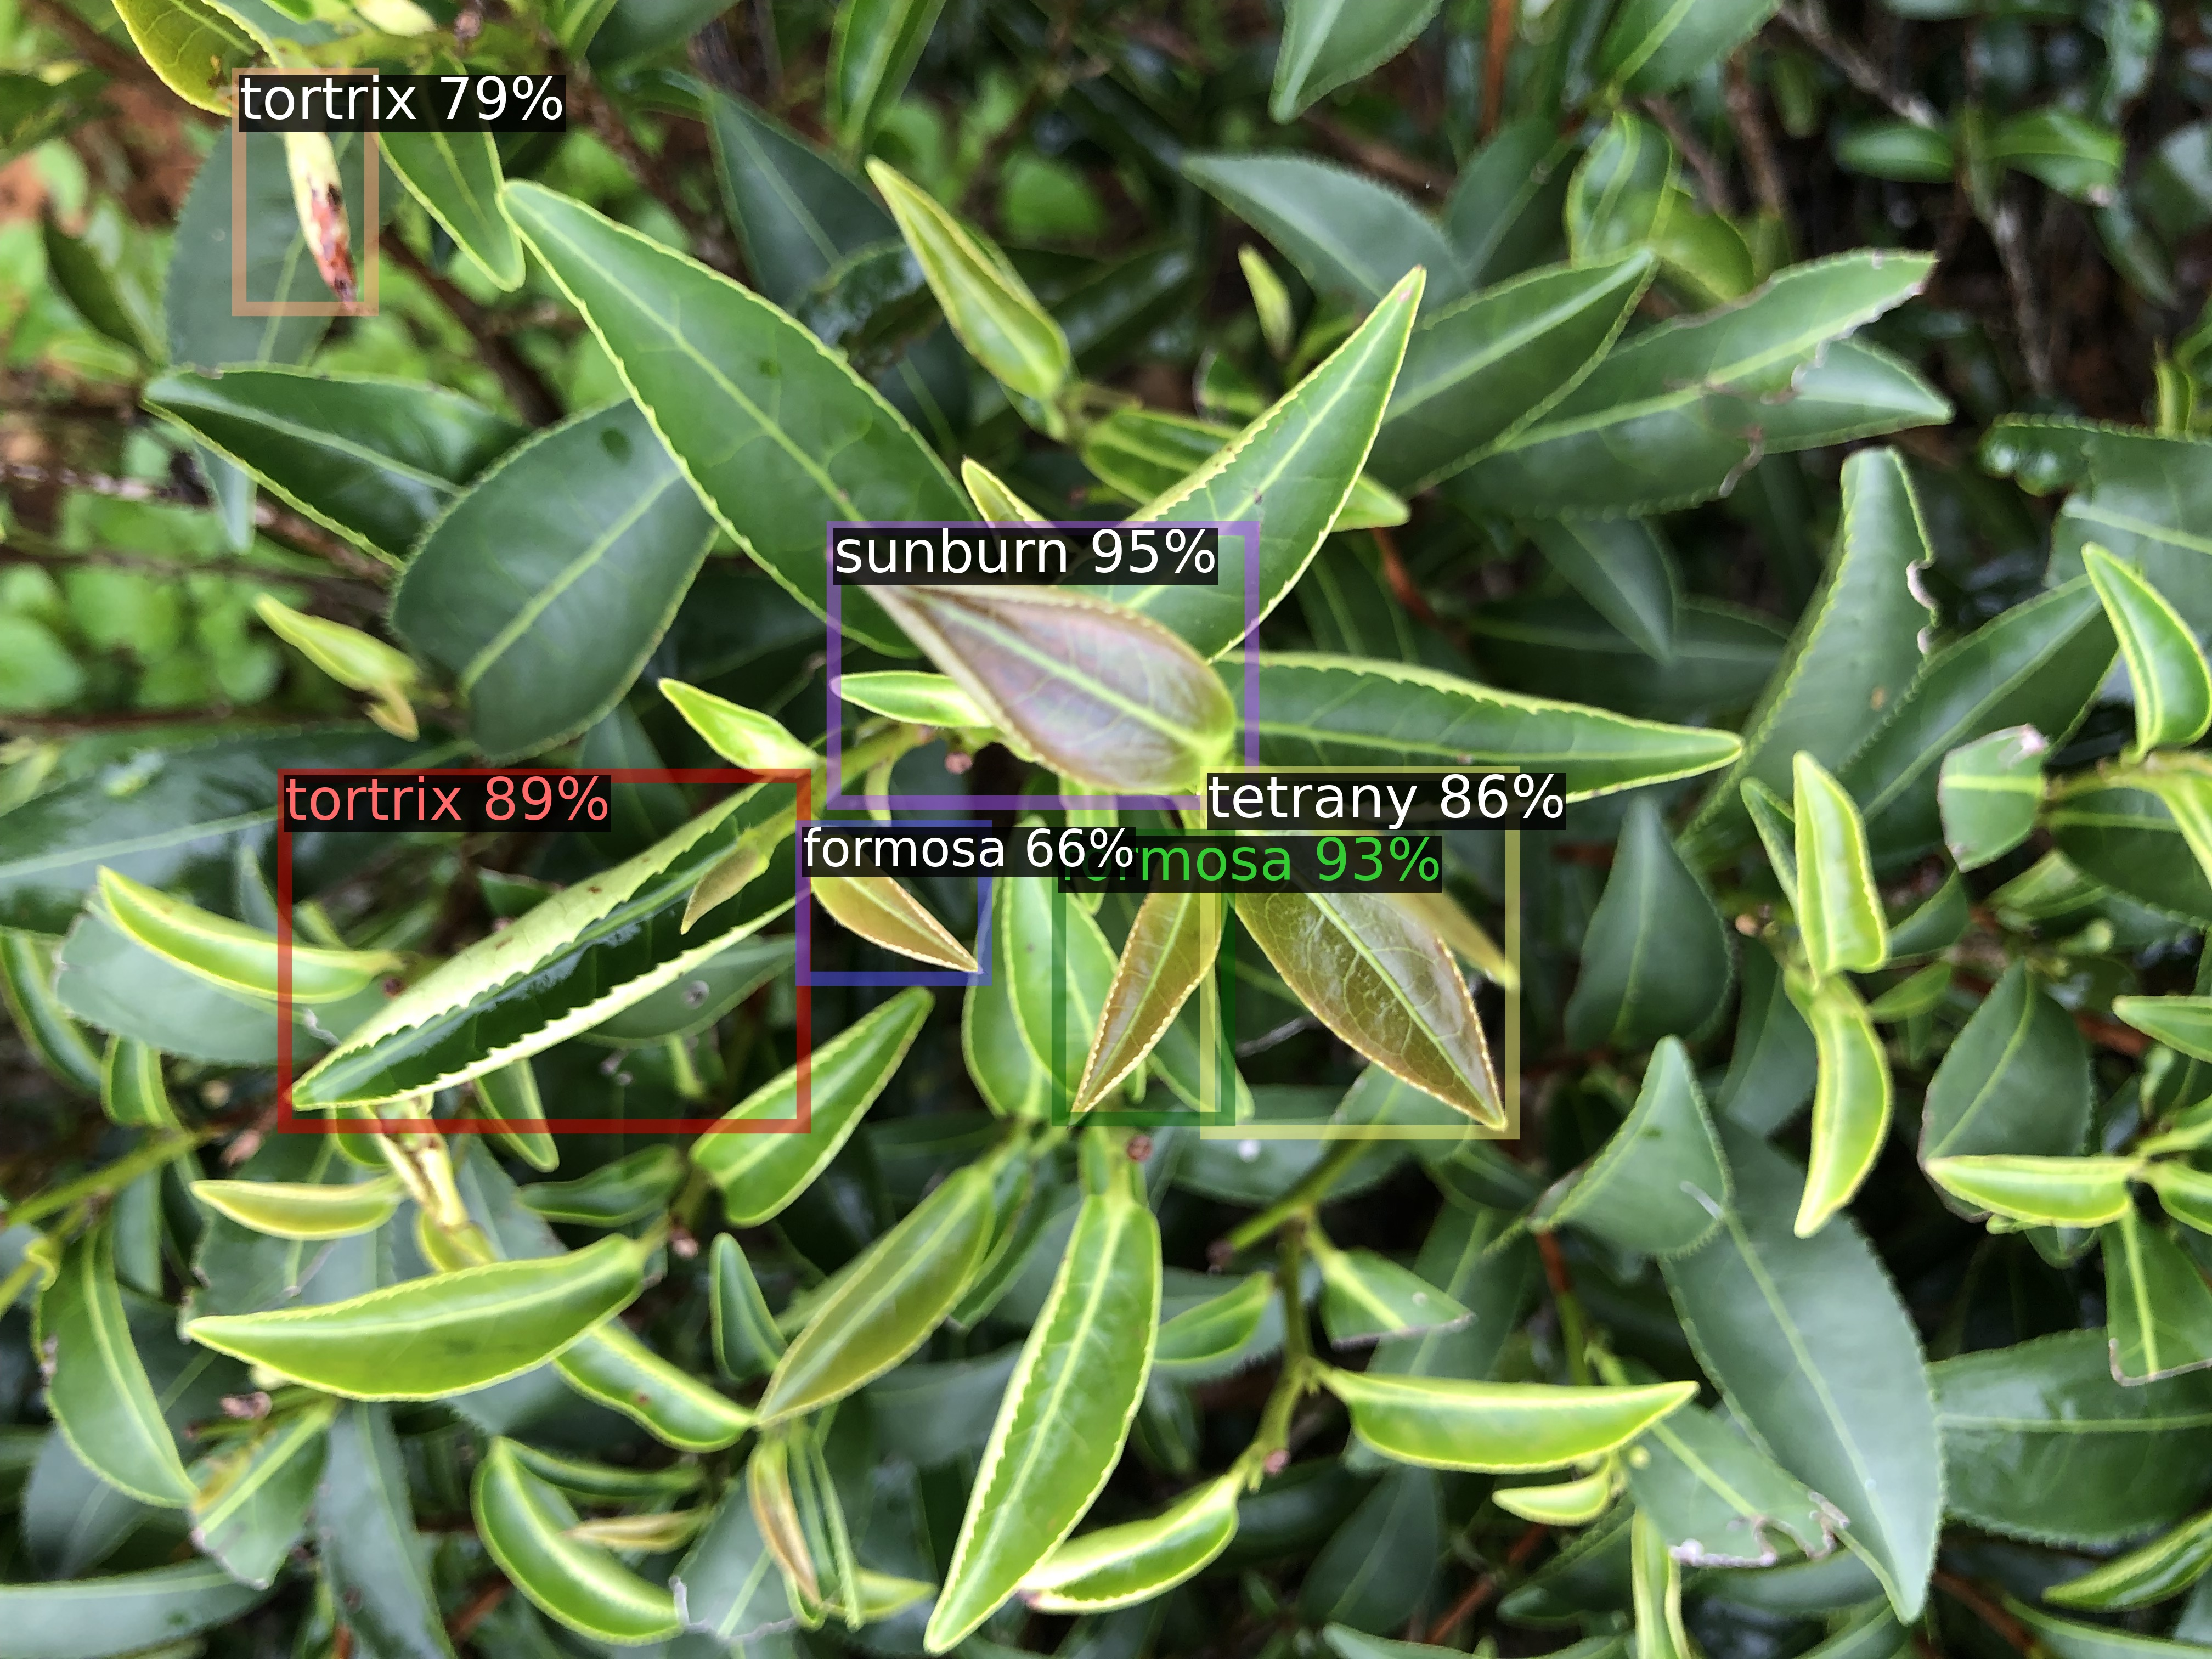formosa: (1059, 835, 1228, 1119), (803, 828, 984, 978)
sunburn: (833, 528, 1252, 803)
tetrany: (1207, 774, 1512, 1133)
tortrix: (284, 775, 803, 1126), (239, 75, 371, 308)
